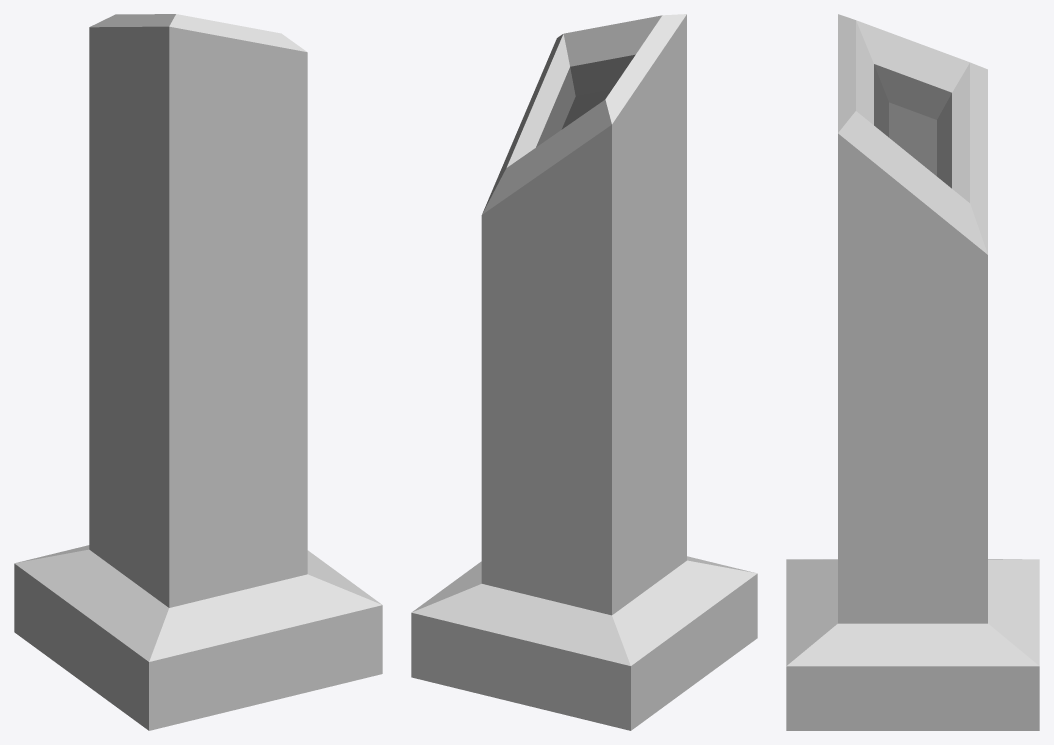
File: square_pillar_broken.glb
The picture shows the model from 3 angles, left to right: view 1: azimuth 30°, elevation 25°; view 2: azimuth 150°, elevation 25°; view 3: azimuth 270°, elevation 25°; orthographic projection. The views are drawn at different scales.
Visible parts, largest first — view 1: Square_Pillar_Broken; view 2: Square_Pillar_Broken; view 3: Square_Pillar_Broken.
Boxes of the visible parts, box(x1,y1,x2,y2) form: Square_Pillar_Broken: box(14, 14, 382, 730); Square_Pillar_Broken: box(411, 14, 757, 730); Square_Pillar_Broken: box(786, 14, 1039, 730).
Bounding box in the file's own units: 2.95 × 8.14 × 2.95.
Materials: 1 (1 with a texture image).
